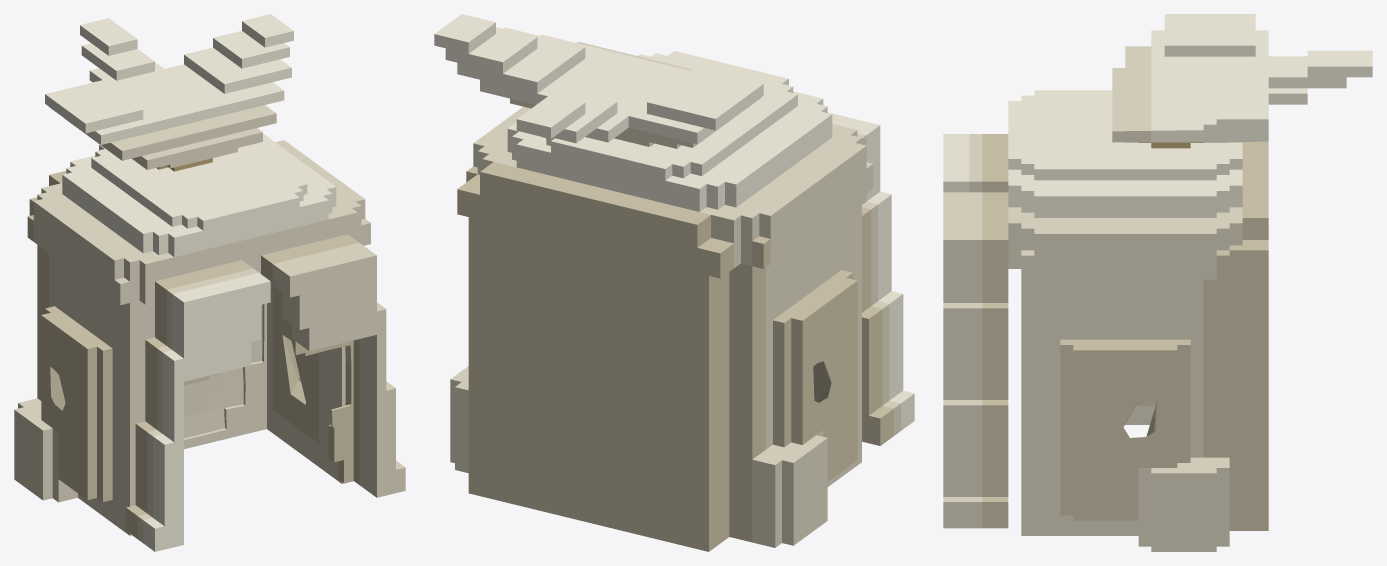
File: yogan_female_hair.glb
3 views of the same model, side by side, from view 1: azimuth 30°, elevation 25°; view 2: azimuth 150°, elevation 25°; view 3: azimuth 270°, elevation 25° (orthographic). The views are drawn at different scales.
Parts seen in each view (by area): view 1: Yogan_Export_Hair.001; view 2: Yogan_Export_Hair.001; view 3: Yogan_Export_Hair.001.
Boxes of the visible parts, box(x1,y1,x2,y2) form: Yogan_Export_Hair.001: box(14, 14, 405, 551); Yogan_Export_Hair.001: box(434, 14, 914, 551); Yogan_Export_Hair.001: box(943, 14, 1372, 551).
Size of the model in its own units: 0.6708 by 0.8423 by 0.7663.
Materials: 4 (4 with a texture image).
